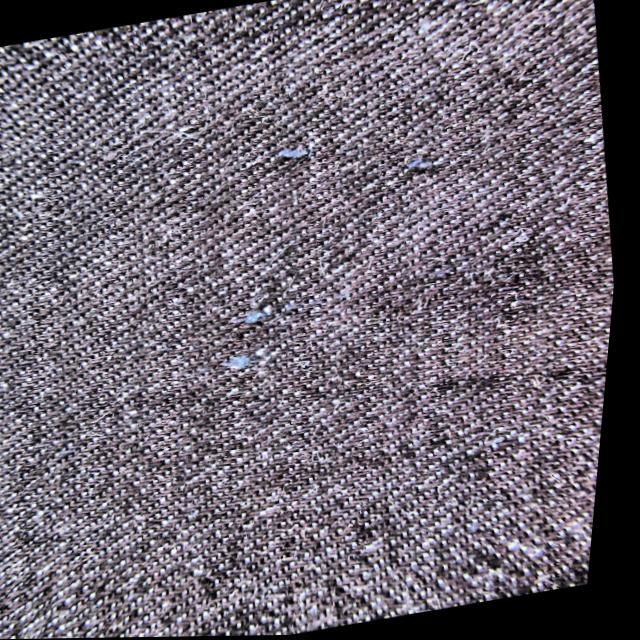Hole: (234, 298, 295, 329), (231, 347, 263, 381), (401, 153, 438, 181), (279, 145, 312, 166)
